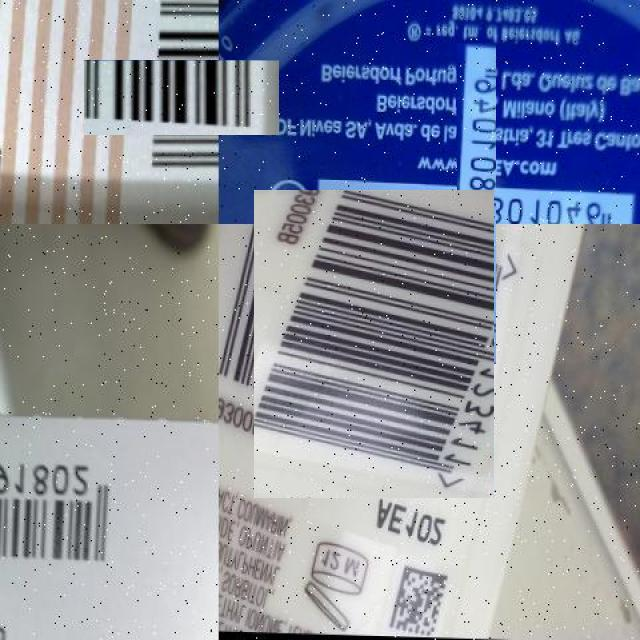Barcode: (236, 207, 511, 481), (386, 114, 567, 294), (0, 418, 150, 594), (114, 30, 249, 166)
